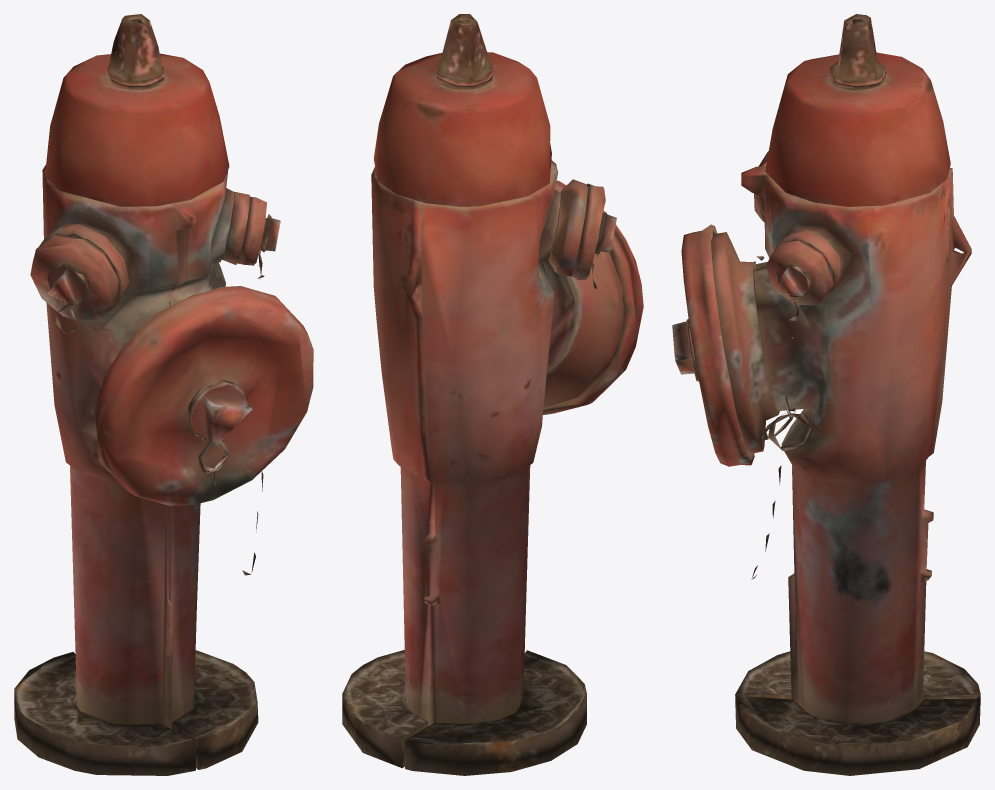
Rendered from fire-hydrant.glb.
3 views of the same model, side by side, from view 1: azimuth 30°, elevation 25°; view 2: azimuth 150°, elevation 25°; view 3: azimuth 270°, elevation 25° (orthographic).
Parts seen in each view (by area): view 1: fire_hydrant_aged; view 2: fire_hydrant_aged; view 3: fire_hydrant_aged.
Boxes of the visible parts, box(x1,y1,x2,y2) form: fire_hydrant_aged: box(14, 14, 313, 775); fire_hydrant_aged: box(342, 14, 643, 775); fire_hydrant_aged: box(672, 14, 980, 775).
Size of the model in its own units: 0.2728 by 0.7992 by 0.3173.
1 material, 1 textured.
